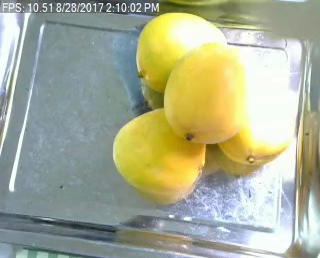Mango: (111, 108, 205, 193), (164, 44, 246, 139), (137, 12, 226, 91), (216, 81, 293, 167)
